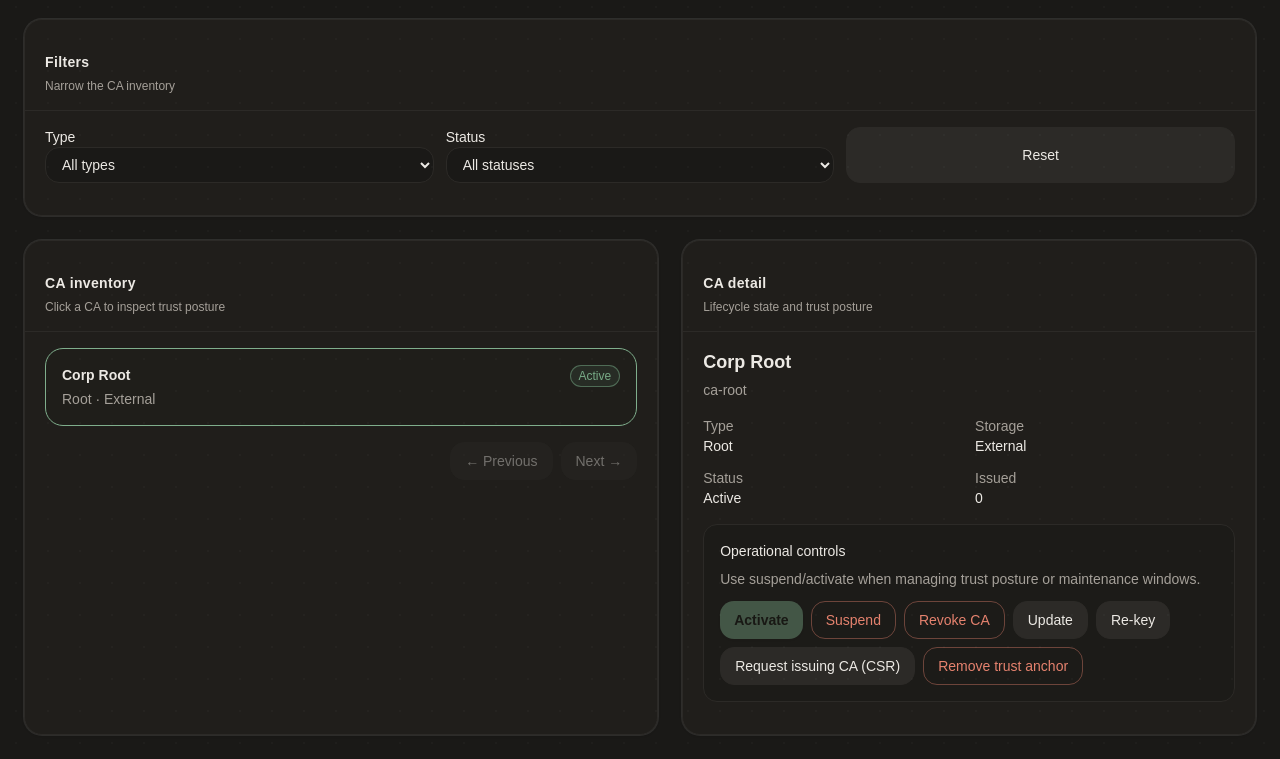
Test case: CAs offline-root workflow (W23-05) › trust anchor removal 204 reports success
(page scrolled)
Click the button "Remove trust anchor". click: coordinates (1003, 666)
box: [923,646,1083,684]
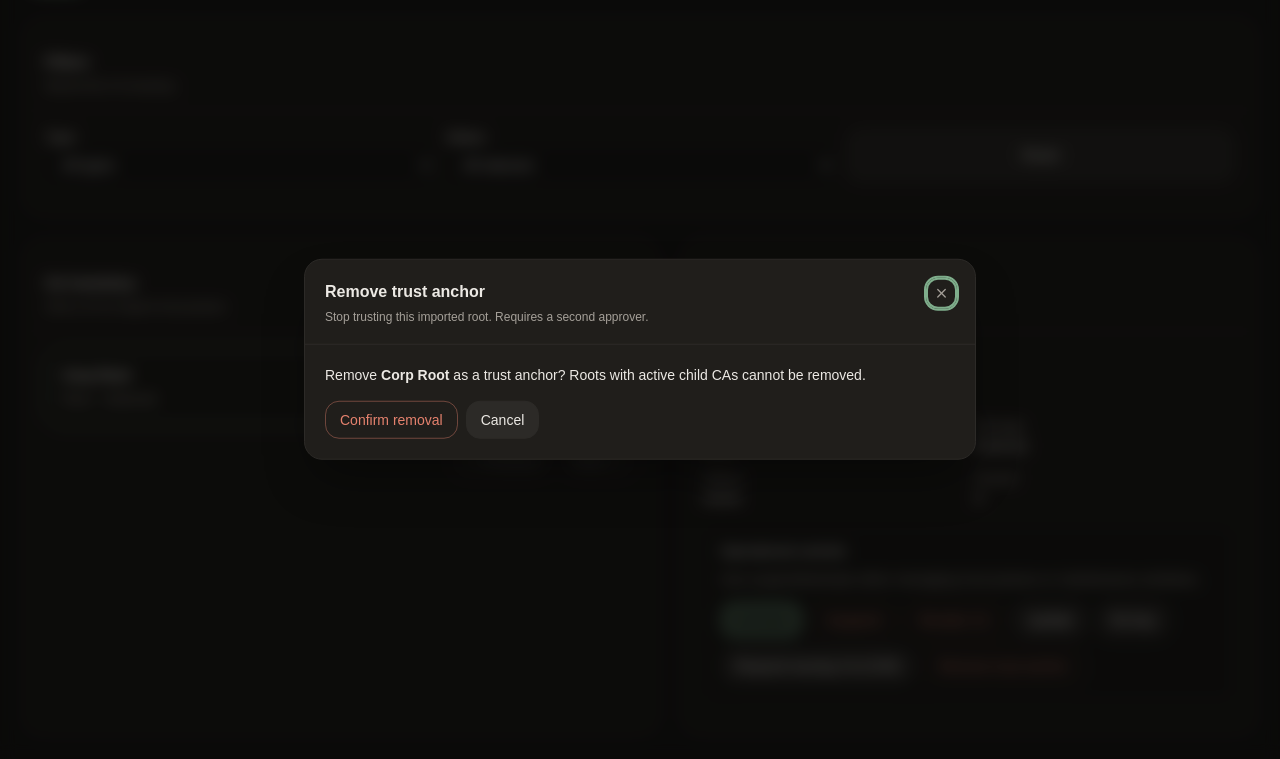
Click the button "Confirm removal". click: coordinates (391, 419)
box: [325,400,458,438]
(page scrolled)
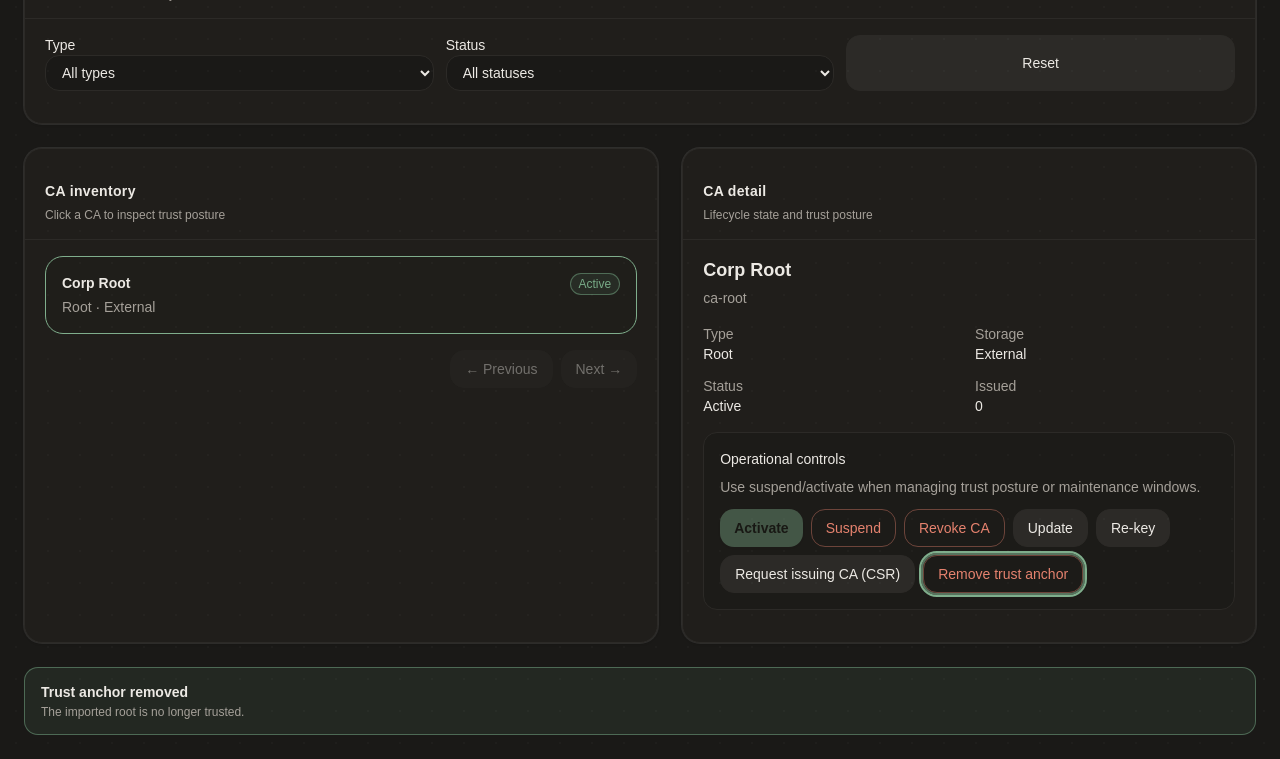
Expected: the text "Trust anchor removed" is shown, [41,684,188,700]
